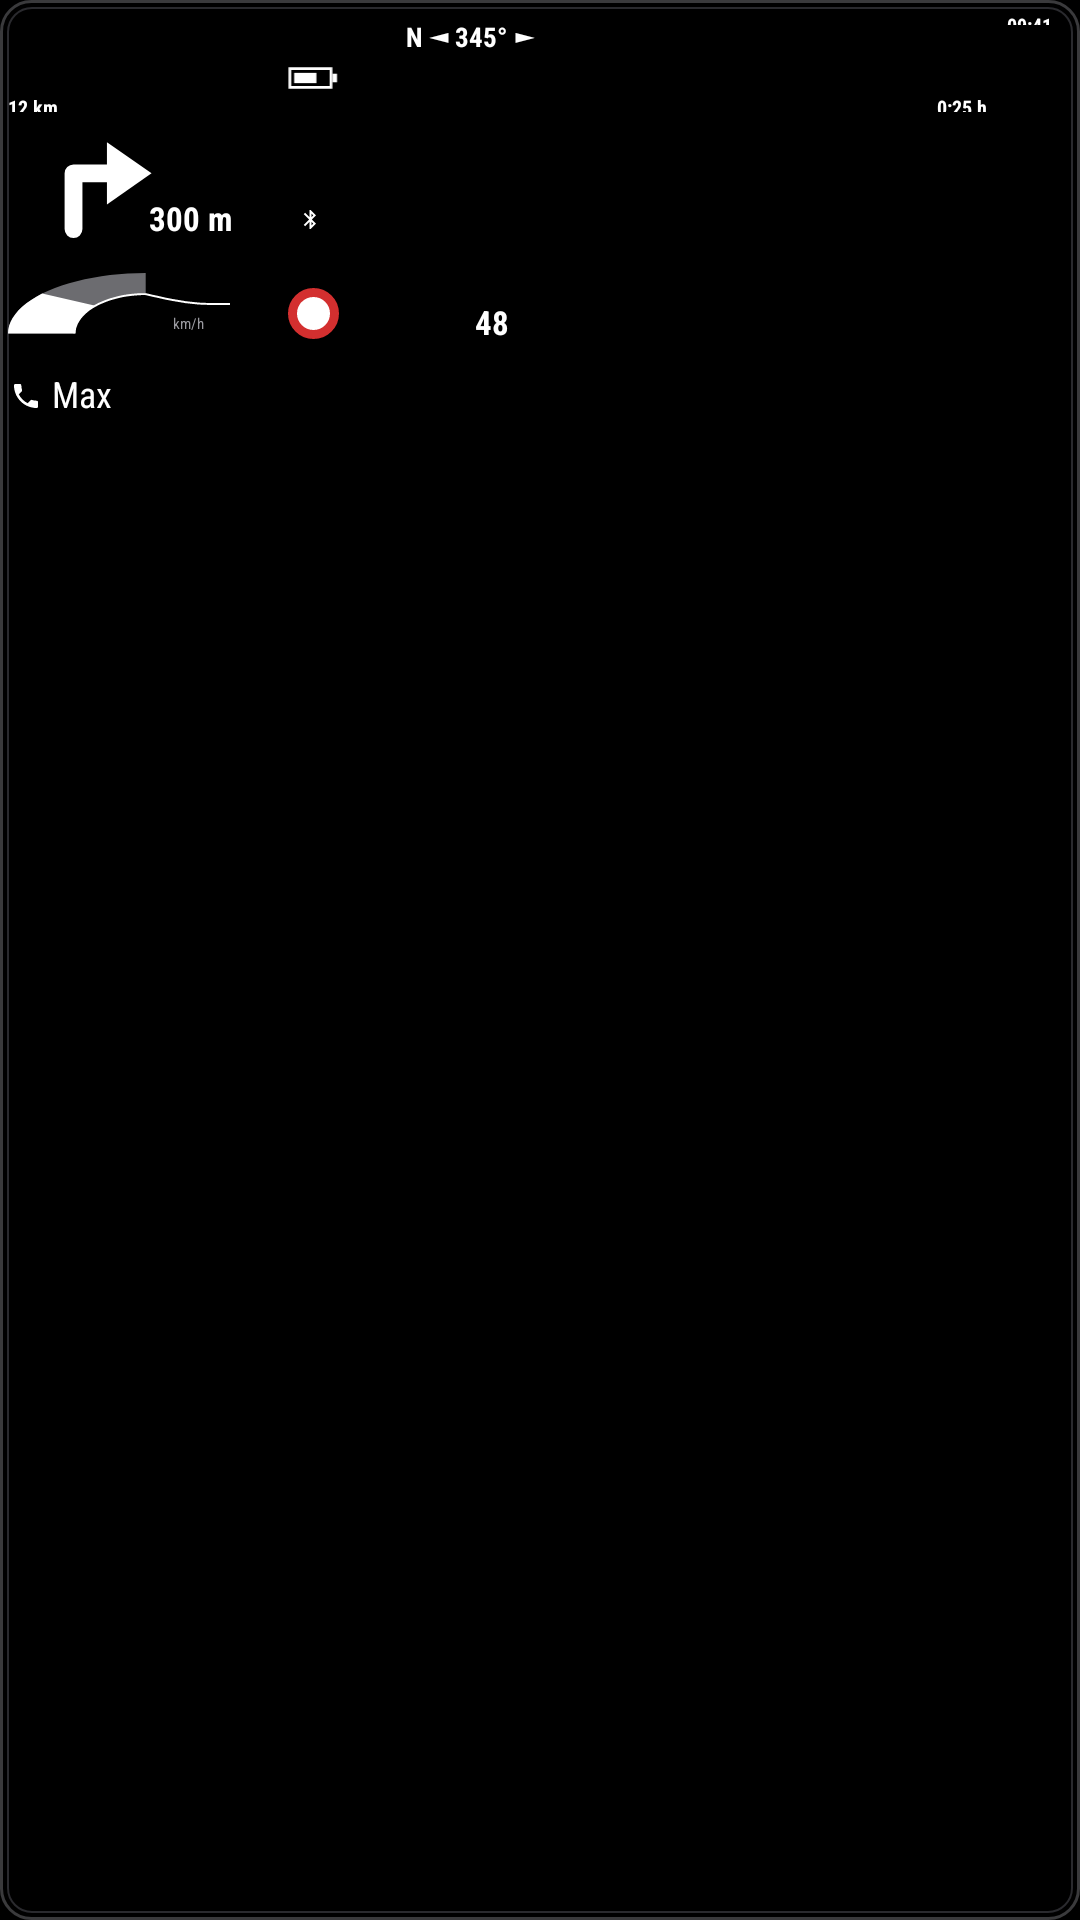

Where icons sit on this 1080*1920 app screen, as (left=x1, top=y1, right=x2, bottom=y2):
prev arrow right: (left=64, top=142, right=152, bottom=238)
prev battery: (left=288, top=67, right=338, bottom=89)
prev gauge: (left=7, top=273, right=230, bottom=335)
prev phone: (left=14, top=384, right=38, bottom=408)
